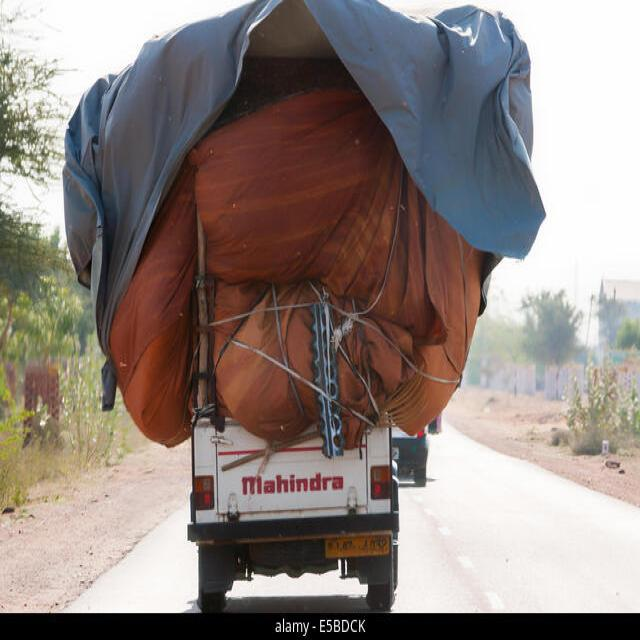goods: (64, 0, 544, 457)
truck: (188, 418, 399, 612)
